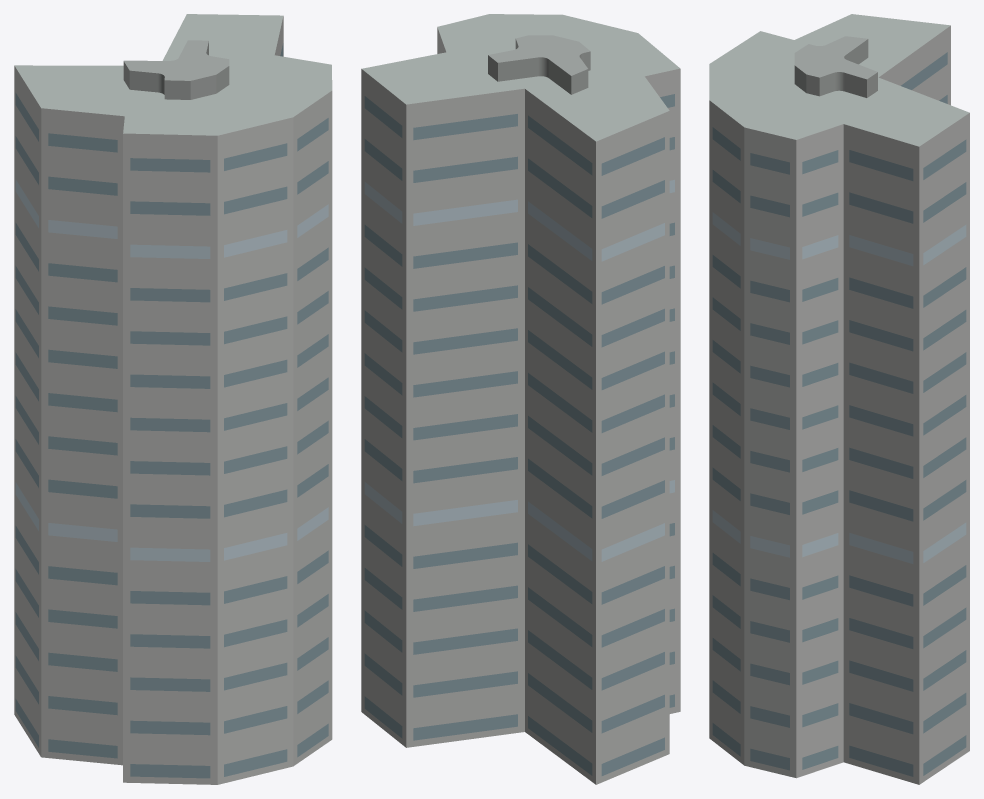
File: fallback-jamsil-parkrio-226.glb
The picture shows the model from 3 angles, left to right: view 1: azimuth 30°, elevation 25°; view 2: azimuth 150°, elevation 25°; view 3: azimuth 270°, elevation 25°; orthographic projection.
Parts seen in each view (by area): view 1: fallback-jamsil-parkrio-226; view 2: fallback-jamsil-parkrio-226; view 3: fallback-jamsil-parkrio-226.
Boxes of the visible parts, <box> form: fallback-jamsil-parkrio-226: <box>14,14,332,784</box>; fallback-jamsil-parkrio-226: <box>361,14,680,784</box>; fallback-jamsil-parkrio-226: <box>709,14,969,784</box>.
Bounding box in the file's own units: 36.39 × 84 × 30.22.
